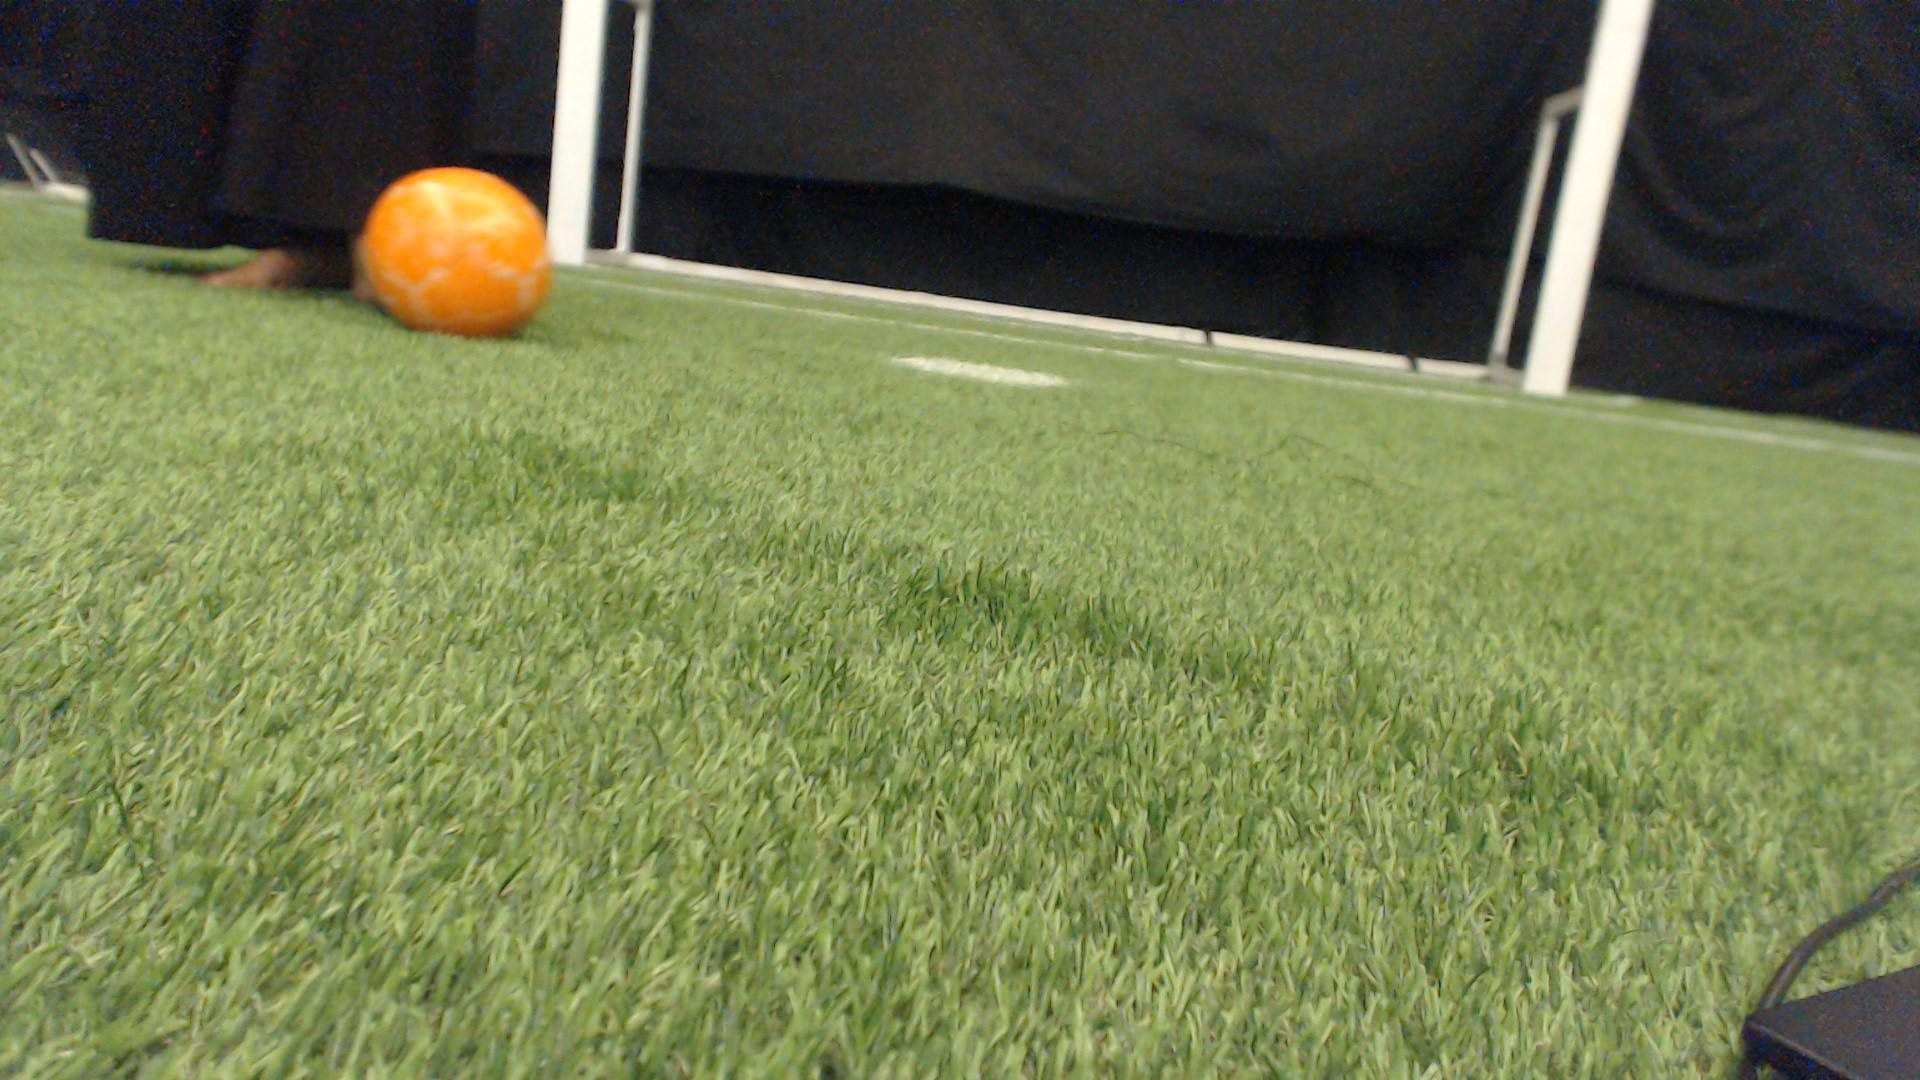bola: (342, 149, 559, 353)
